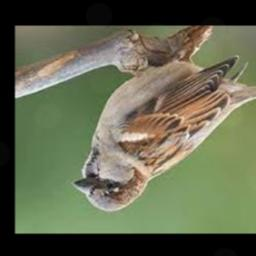Sparrow: (72, 54, 256, 211)
